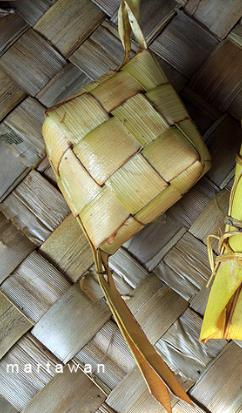Tipat Nasi: (43, 51, 210, 253)
